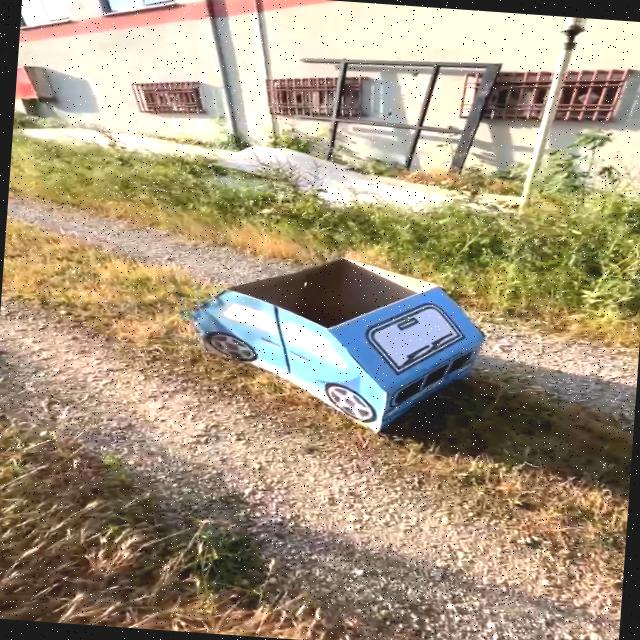blue_car: (155, 242, 524, 449)
